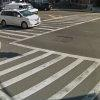Crosswalk: (5, 36, 100, 100)
